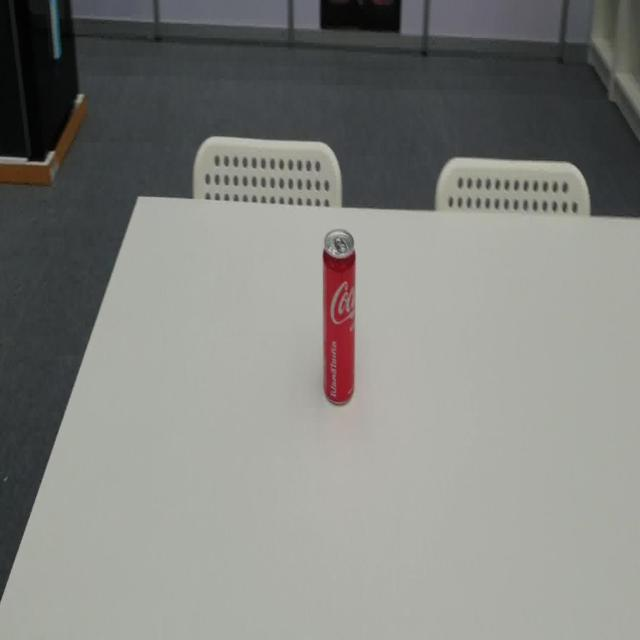coca-cola: (319, 226, 358, 412)
